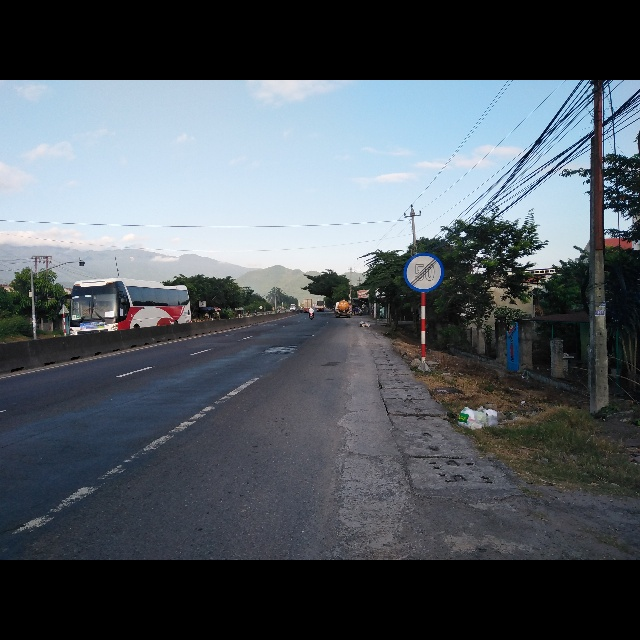Hết hạn chế tốc độ tối đa 50km/h: (403, 251, 446, 295)
